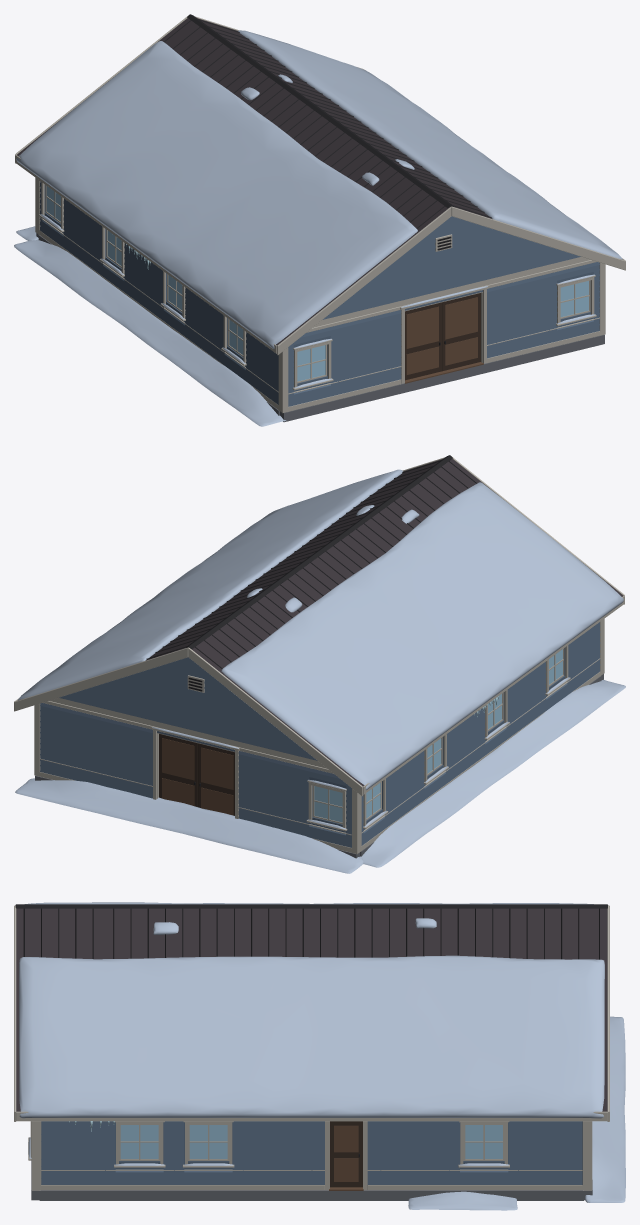
Rendered from sawmill_shed.glb.
3 renders of one model, top to bottom at view 1: azimuth 30°, elevation 25°; view 2: azimuth 150°, elevation 25°; view 3: azimuth 270°, elevation 25°, orthographic. The views are drawn at different scales.
Visible parts, largest first — view 1: Roof, Walls0_S, Floor0, Walls0_W, Door_1, Door_0, Window_0, Window_1, Walls0_S_Stub; view 2: Roof, Walls0_N, Floor0, Walls0_W, Door_3, Door_2, Window_2, Walls0_N_Stub; view 3: Roof, Walls0_E, Floor0, Door_4, Window_3, Window_4, Window_5, Walls0_E_Stub, Walls0_S, Walls0_N.
Part boxes in pixels (bbox=[...]): Roof: bbox=[15, 14, 625, 355]; Walls0_S: bbox=[278, 260, 605, 412]; Floor0: bbox=[14, 226, 604, 426]; Walls0_W: bbox=[39, 181, 278, 409]; Door_1: bbox=[442, 293, 480, 371]; Door_0: bbox=[405, 302, 441, 380]; Window_0: bbox=[297, 345, 325, 381]; Window_1: bbox=[560, 281, 588, 317]; Walls0_S_Stub: bbox=[278, 317, 605, 412]; Roof: bbox=[14, 455, 624, 796]; Walls0_N: bbox=[34, 701, 361, 853]; Floor0: bbox=[15, 674, 625, 873]; Walls0_W: bbox=[361, 622, 600, 850]; Door_3: bbox=[159, 734, 197, 806]; Door_2: bbox=[198, 743, 234, 815]; Window_2: bbox=[314, 786, 342, 822]; Walls0_N_Stub: bbox=[34, 758, 361, 852]; Roof: bbox=[14, 902, 609, 1131]; Walls0_E: bbox=[41, 1121, 582, 1190]; Floor0: bbox=[31, 1016, 625, 1210]; Door_4: bbox=[330, 1121, 362, 1187]; Window_3: bbox=[120, 1125, 158, 1158]; Window_4: bbox=[189, 1125, 227, 1158]; Window_5: bbox=[465, 1125, 502, 1158]; Walls0_E_Stub: bbox=[41, 1169, 582, 1189]; Walls0_S: bbox=[28, 1121, 41, 1190]; Walls0_N: bbox=[582, 1121, 592, 1190].
Size of what is drawn, in the model's own units: 13.89 by 6.63 by 17.77.
